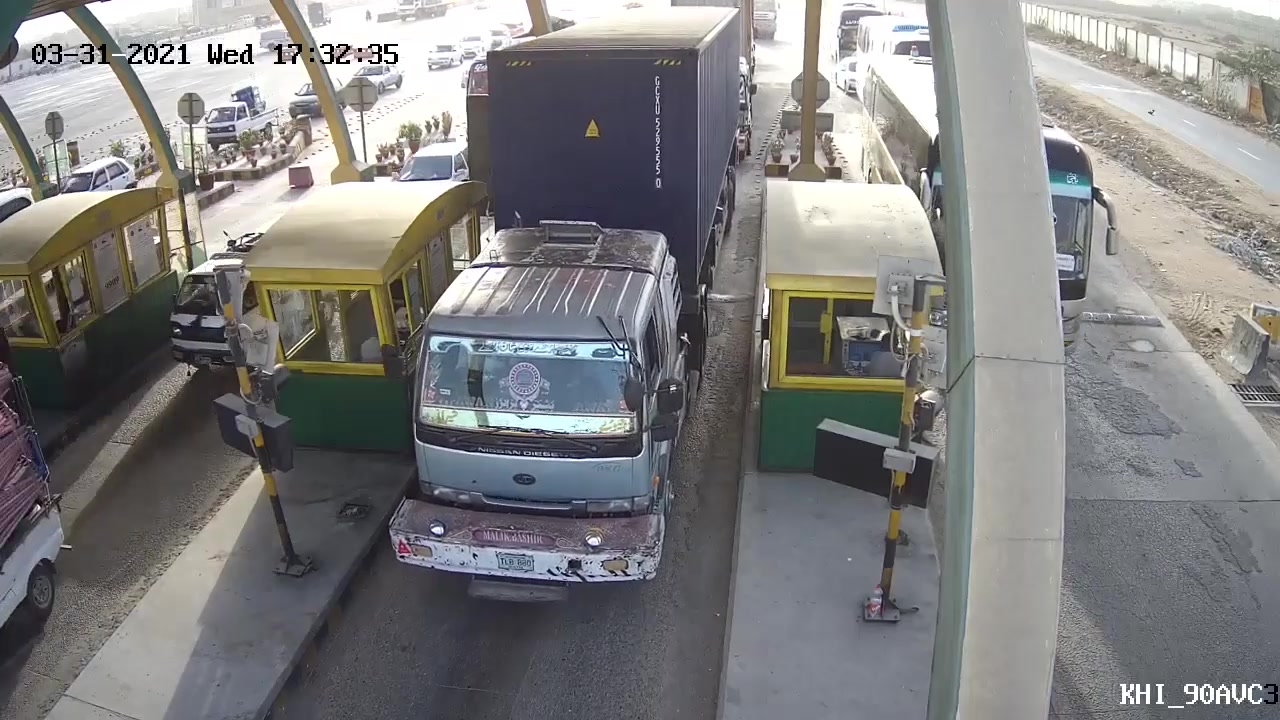F6: (388, 3, 752, 604)
